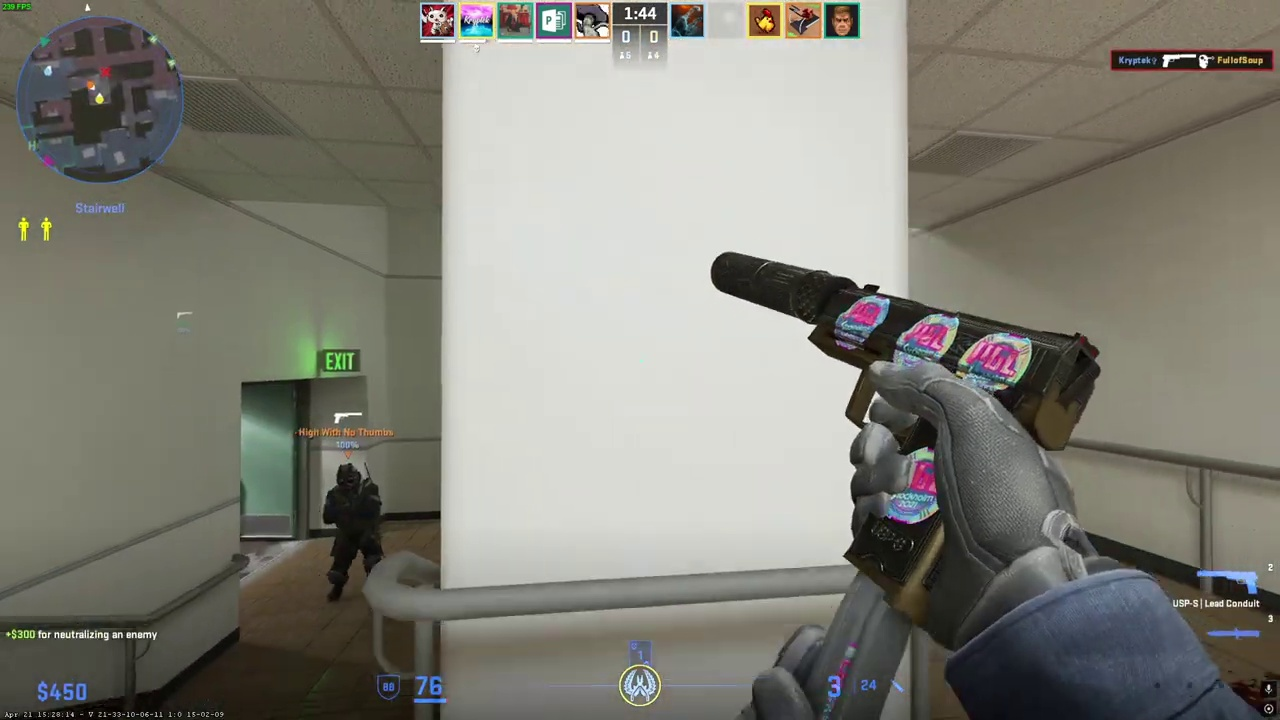CT: (322, 463, 382, 603)
